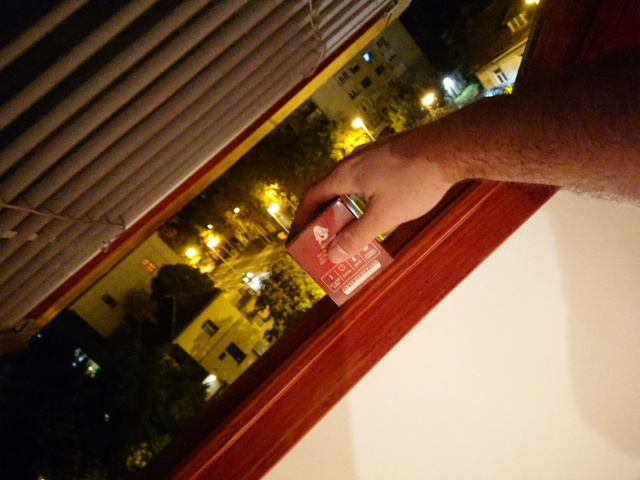Franck Apple Cinnamon Tea 60g: (281, 170, 399, 310)
